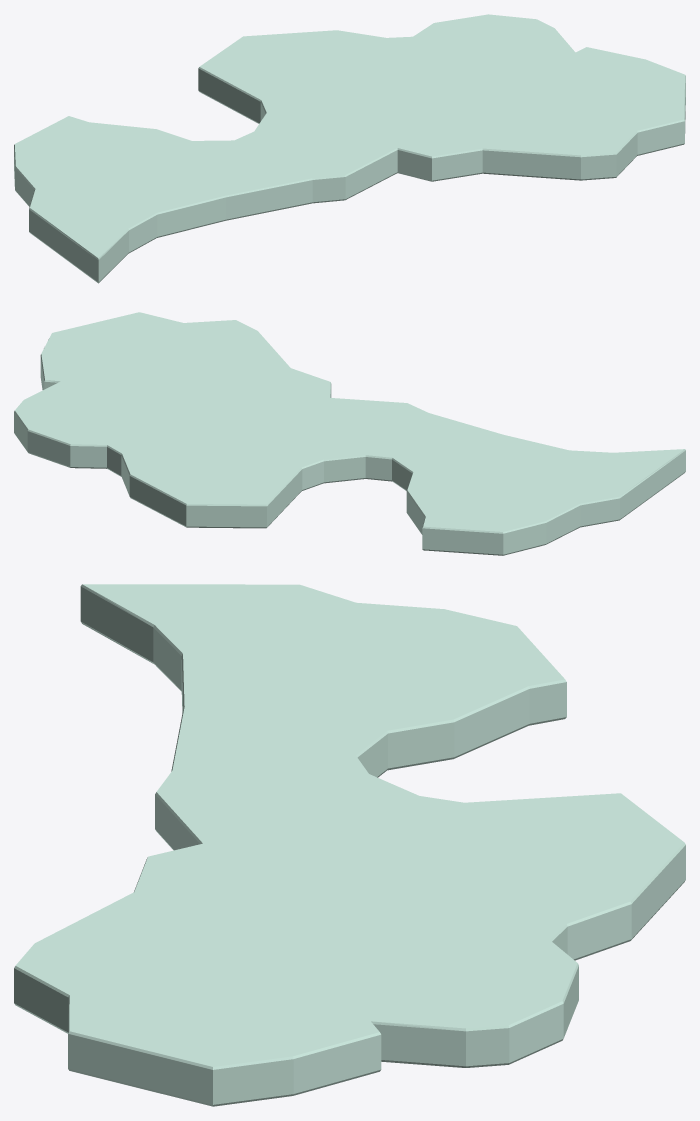
Rendered from LVA.glb.
3 renders of one model, top to bottom at view 1: azimuth 30°, elevation 25°; view 2: azimuth 150°, elevation 25°; view 3: azimuth 270°, elevation 25°, orthographic. The views are drawn at different scales.
Bounding box in the file's own units: 1.78 × 0.068 × 1.04.
